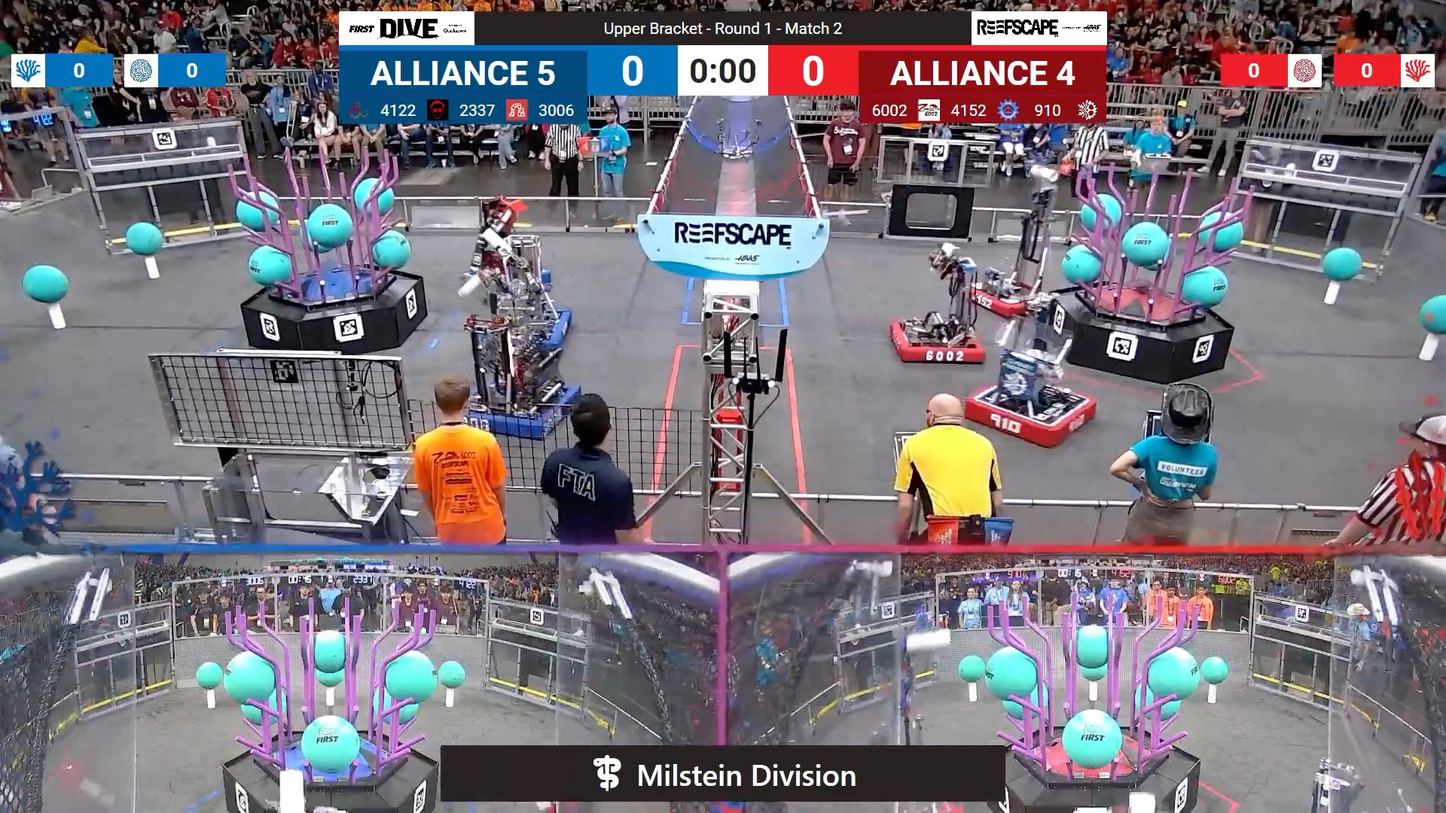bumpers: (957, 385, 1100, 448), (453, 381, 584, 442), (468, 306, 579, 358), (888, 320, 989, 370)
